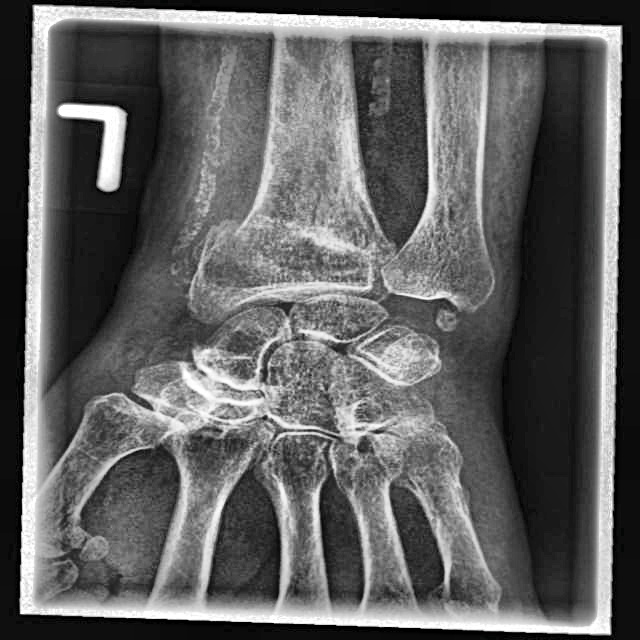Oblique Displaced: (27, 471, 116, 569)
